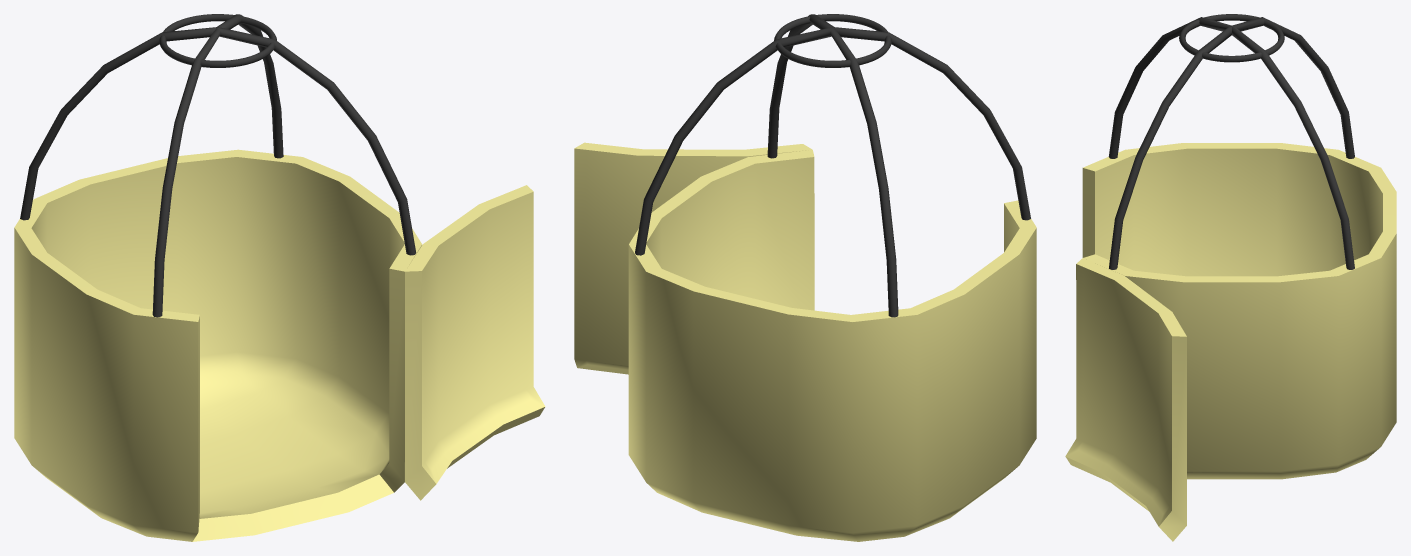
File: korzina2.fbx
The picture shows the model from 3 angles, left to right: view 1: azimuth 30°, elevation 25°; view 2: azimuth 150°, elevation 25°; view 3: azimuth 270°, elevation 25°; orthographic projection. The views are drawn at different scales.
Visible parts, largest first — view 1: Cube.008, Cube.014, Vert.002, BezierCircle.003; view 2: Cube.008, Cube.014, Vert.002, BezierCircle.003; view 3: Cube.008, Cube.014, Vert.002, BezierCircle.003.
Boxes of the visible parts, x1,y1,x2,y2 form: Cube.008: (14,149,422,541); Cube.014: (405,185,545,500); Vert.002: (20,14,416,317); BezierCircle.003: (159,14,276,67); Cube.008: (628,149,1036,541); Cube.014: (574,142,811,374); Vert.002: (635,14,1030,317); BezierCircle.003: (774,14,891,67); Cube.008: (1082,143,1396,479); Cube.014: (1065,258,1186,541); Vert.002: (1108,17,1354,269); BezierCircle.003: (1179,14,1284,62).
Bounding box in the file's own units: 520 × 501 × 372.
